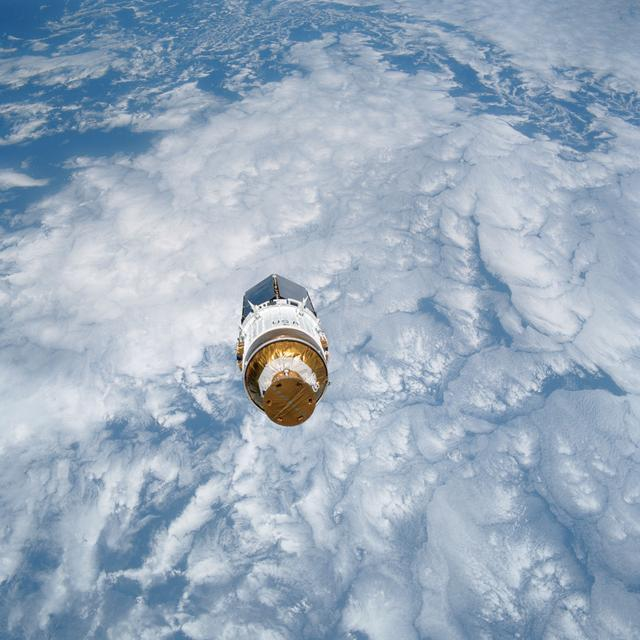medium_debris: (236, 274, 329, 426)
